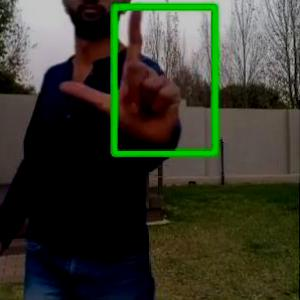land_hand: (56, 1, 184, 146)
